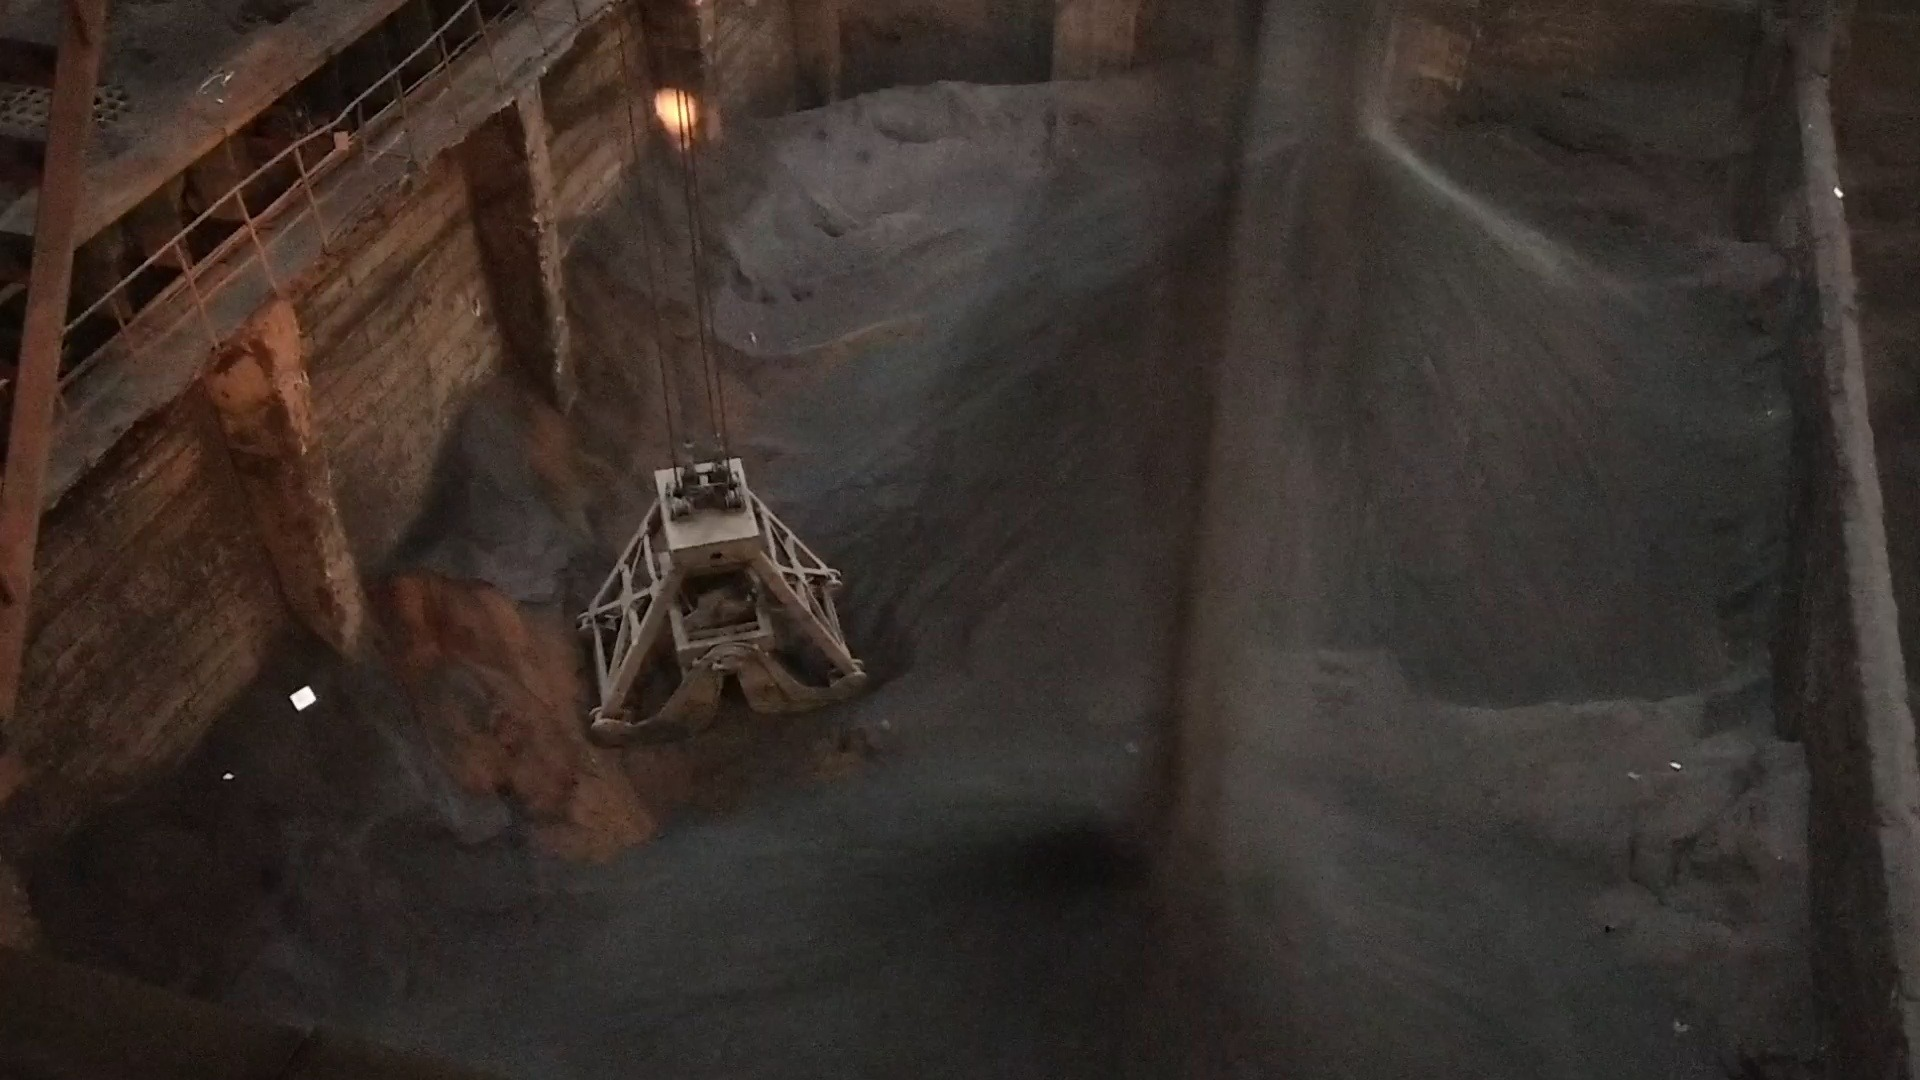grab: (578, 442, 872, 738)
